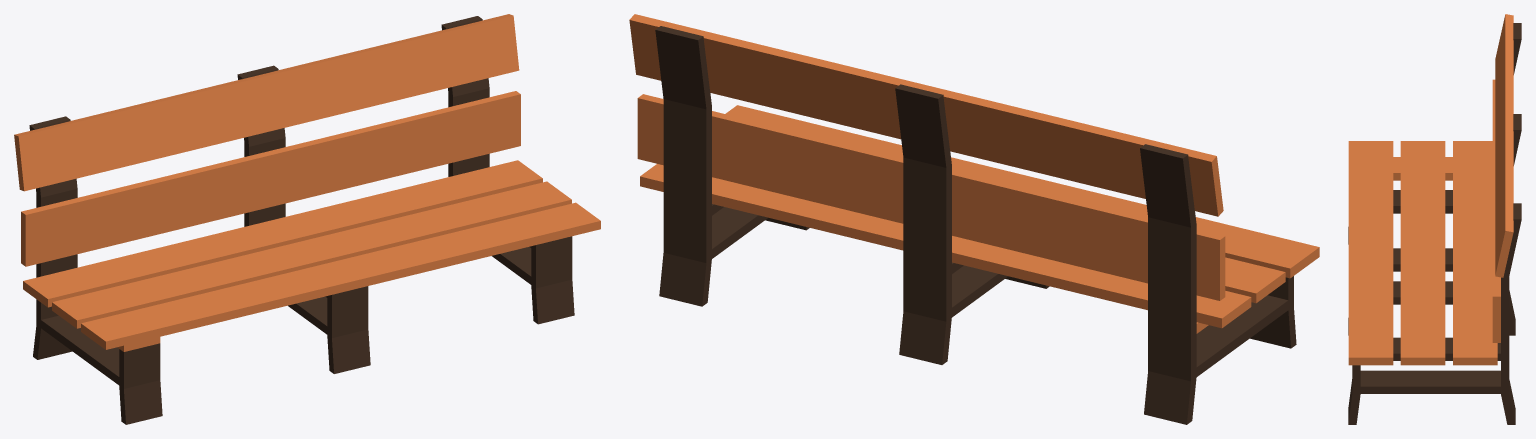
The model's file is Banco_Madeira (1).fbx.
The picture shows the model from 3 angles, left to right: view 1: azimuth 30°, elevation 25°; view 2: azimuth 150°, elevation 25°; view 3: azimuth 270°, elevation 25°; orthographic projection. The views are drawn at different scales.
Parts seen in each view (by area): view 1: Banco_Madeira; view 2: Banco_Madeira; view 3: Banco_Madeira.
Part boxes in pixels (x1,y1,x2,y2): Banco_Madeira: [14, 14, 600, 424]; Banco_Madeira: [629, 14, 1319, 424]; Banco_Madeira: [1348, 14, 1521, 424].
Bounding box in the file's own units: 293 × 130 × 99.14.
